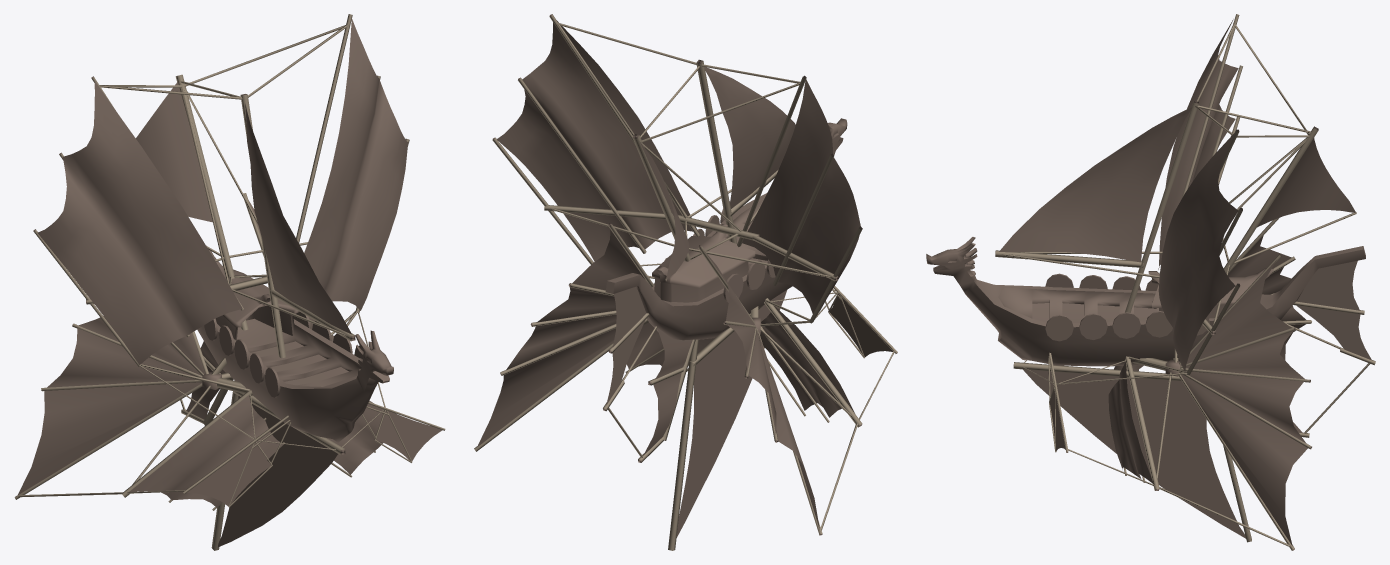
File: smInvaderAirship.fbx
3 views of the same model, side by side, from view 1: azimuth 30°, elevation 25°; view 2: azimuth 150°, elevation 25°; view 3: azimuth 270°, elevation 25° (orthographic). The views are drawn at different scales.
Parts seen in each view (by area): view 1: smInvaderAirship; view 2: smInvaderAirship; view 3: smInvaderAirship.
Part boxes in pixels (x1,y1,x2,y2): smInvaderAirship: (14, 14, 445, 550); smInvaderAirship: (474, 14, 897, 550); smInvaderAirship: (926, 14, 1375, 550).
Bounding box in the file's own units: 143 × 185 × 160.
